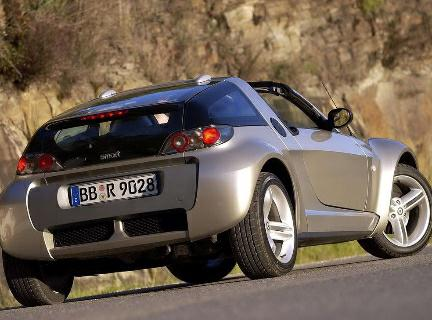smart-roadster: (16, 74, 422, 296)
